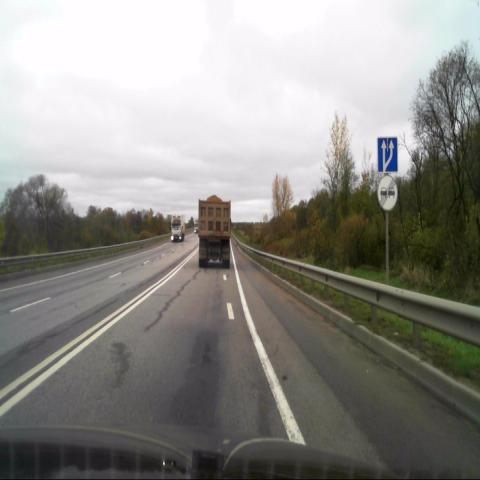3_21: (377, 175, 397, 212)
